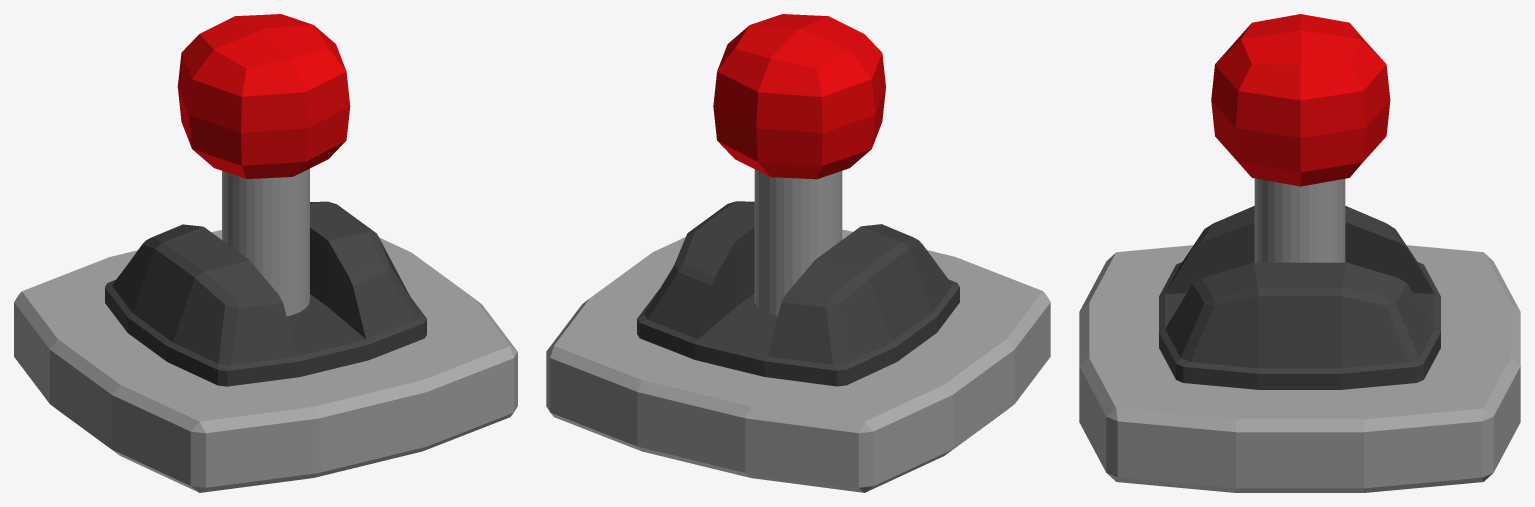
File: lever arm.fbx
3 renders of one model, left to right at view 1: azimuth 30°, elevation 25°; view 2: azimuth 150°, elevation 25°; view 3: azimuth 270°, elevation 25°, orthographic. The views are drawn at different scales.
Visible parts, largest first — view 1: Cube, Cube.001, Cube.002, Cylinder; view 2: Cube, Cube.001, Cube.002, Cylinder; view 3: Cube, Cube.001, Cube.002, Cylinder.
Part boxes in pixels (bbox=[...]): Cube: bbox=[14, 230, 517, 492]; Cube.001: bbox=[105, 201, 426, 386]; Cube.002: bbox=[177, 14, 350, 178]; Cylinder: bbox=[222, 168, 309, 316]; Cube: bbox=[546, 229, 1050, 492]; Cube.001: bbox=[637, 201, 959, 386]; Cube.002: bbox=[713, 14, 885, 179]; Cylinder: bbox=[754, 169, 842, 316]; Cube: bbox=[1079, 245, 1520, 492]; Cube.001: bbox=[1159, 206, 1440, 389]; Cube.002: bbox=[1211, 14, 1390, 186]; Cylinder: bbox=[1254, 178, 1345, 262].
Size of the model in its own units: 200 by 186 by 200.
